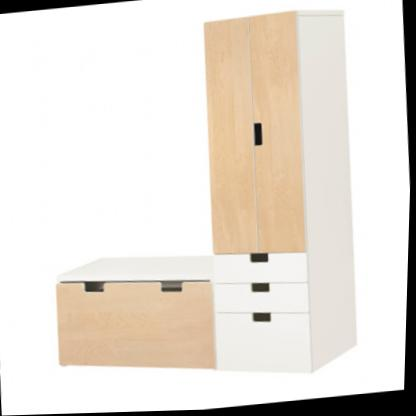Cabinet: (193, 3, 375, 388), (49, 242, 222, 388)
